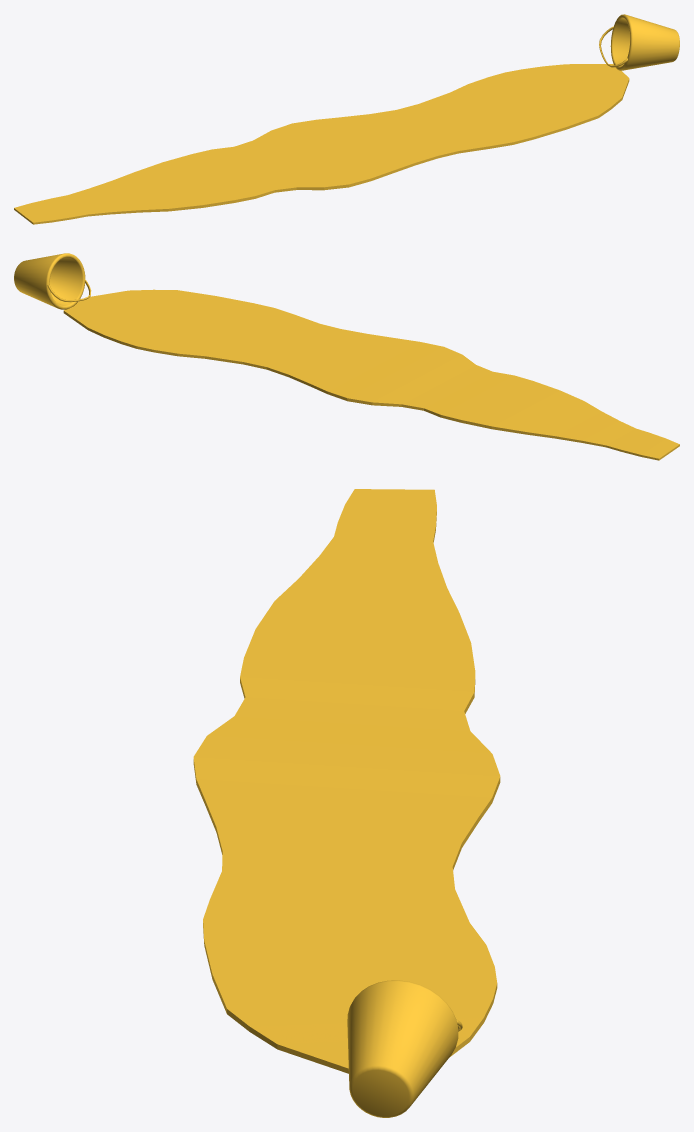
Rendered from paint_box.fbx.
3 views of the same model, one above another, from view 1: azimuth 30°, elevation 25°; view 2: azimuth 150°, elevation 25°; view 3: azimuth 270°, elevation 25° (orthographic). The views are drawn at different scales.
Parts seen in each view (by area): view 1: paint, box; view 2: paint, box; view 3: paint, box.
Boxes of the visible parts, bbox=[...] form: paint: bbox=[14, 64, 629, 224]; box: bbox=[599, 14, 679, 70]; paint: bbox=[63, 289, 679, 460]; box: bbox=[14, 253, 91, 309]; paint: bbox=[193, 489, 500, 1073]; box: bbox=[347, 980, 462, 1117].
Size of the model in its own units: 26.18 by 2 by 5.34.
Materials: 1 (1 with a texture image).
